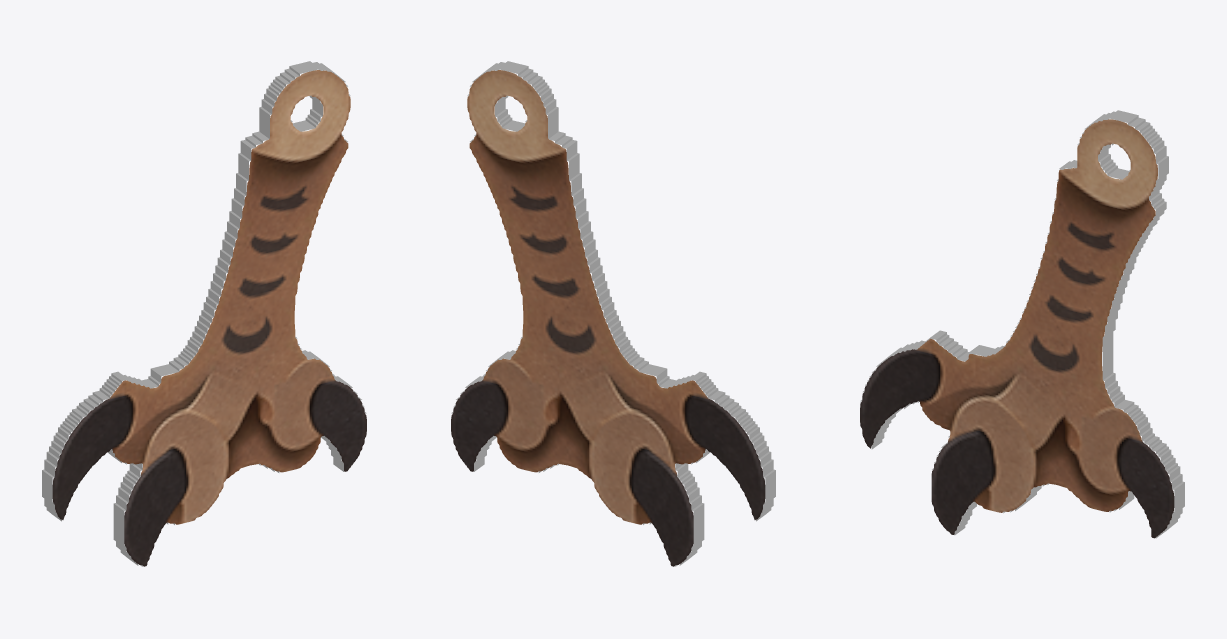
File: Claw03.glb
The picture shows the model from 3 angles, left to right: view 1: azimuth 30°, elevation 25°; view 2: azimuth 150°, elevation 25°; view 3: azimuth 330°, elevation 25°; orthographic projection.
Parts seen in each view (by area): view 1: PaperVolume; view 2: PaperVolume; view 3: PaperVolume.
Boxes of the visible parts, x1,y1,x2,y2 form: PaperVolume: (42, 61, 366, 566); PaperVolume: (451, 61, 775, 566); PaperVolume: (860, 110, 1184, 538).
Bounding box in the file's own units: 1.6 × 2.12 × 0.08.
3 materials, 2 textured.
